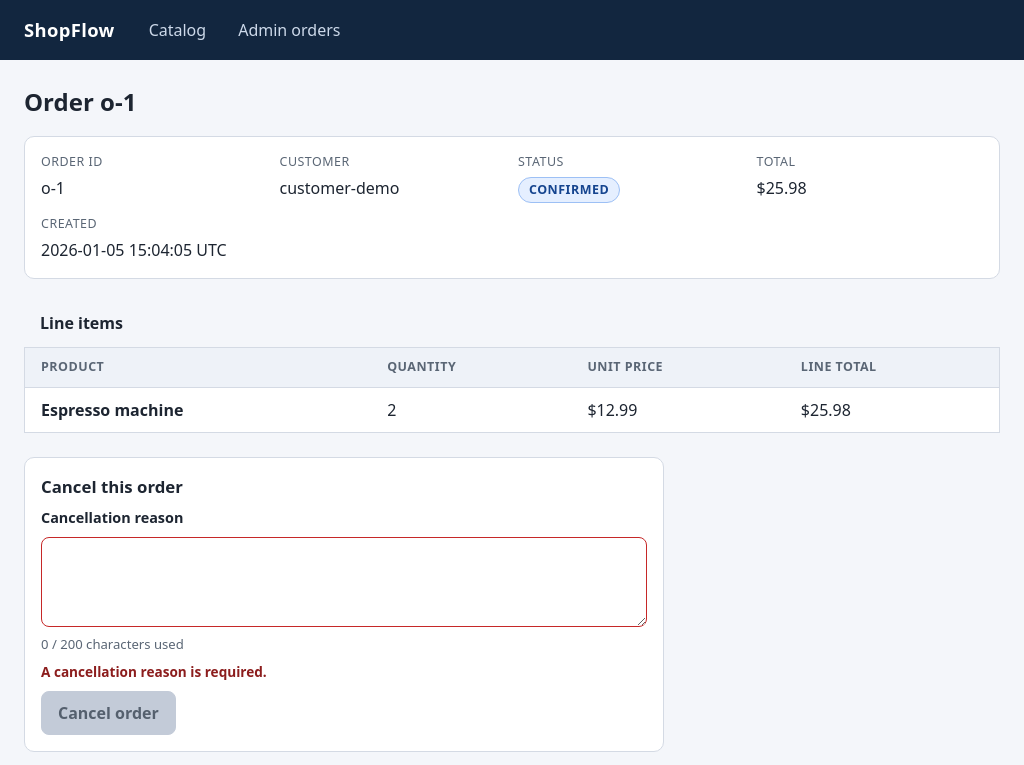
Test: OrderDetailPage › shows the rejection message when the API refuses the cancellation reason
Type "Found a better deal" into the text box labelled "Cancellation reason" at (344, 582), box [41,537,647,627]
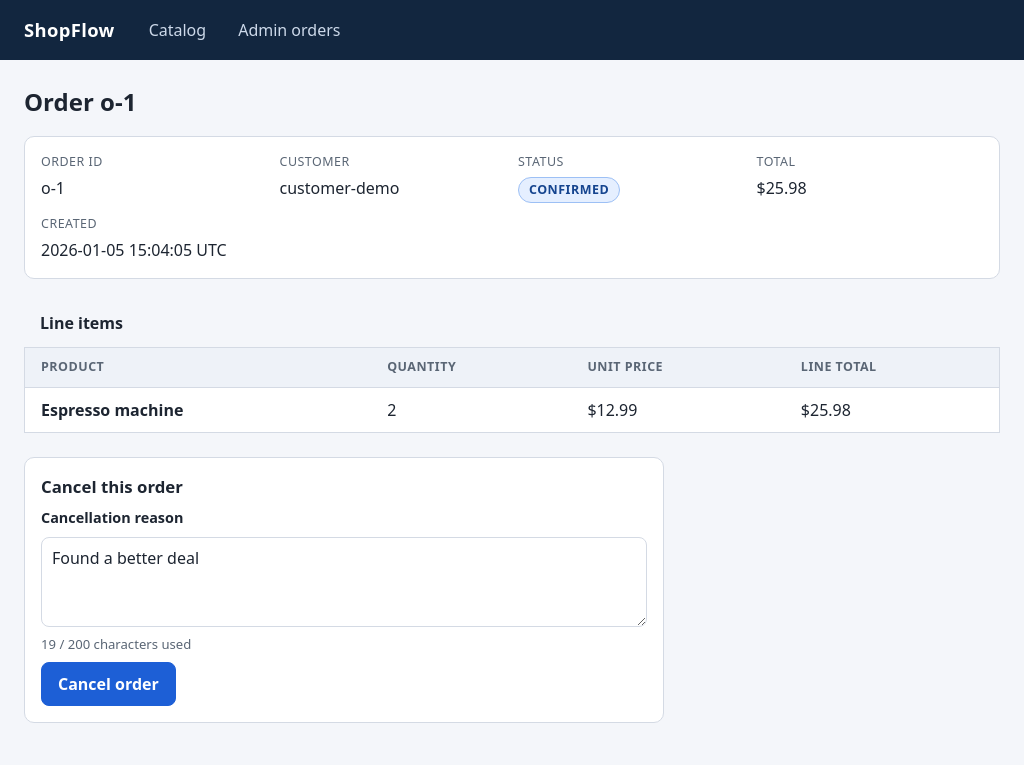
Click the button "Cancel order" at (108, 684), box [41,662,176,706]
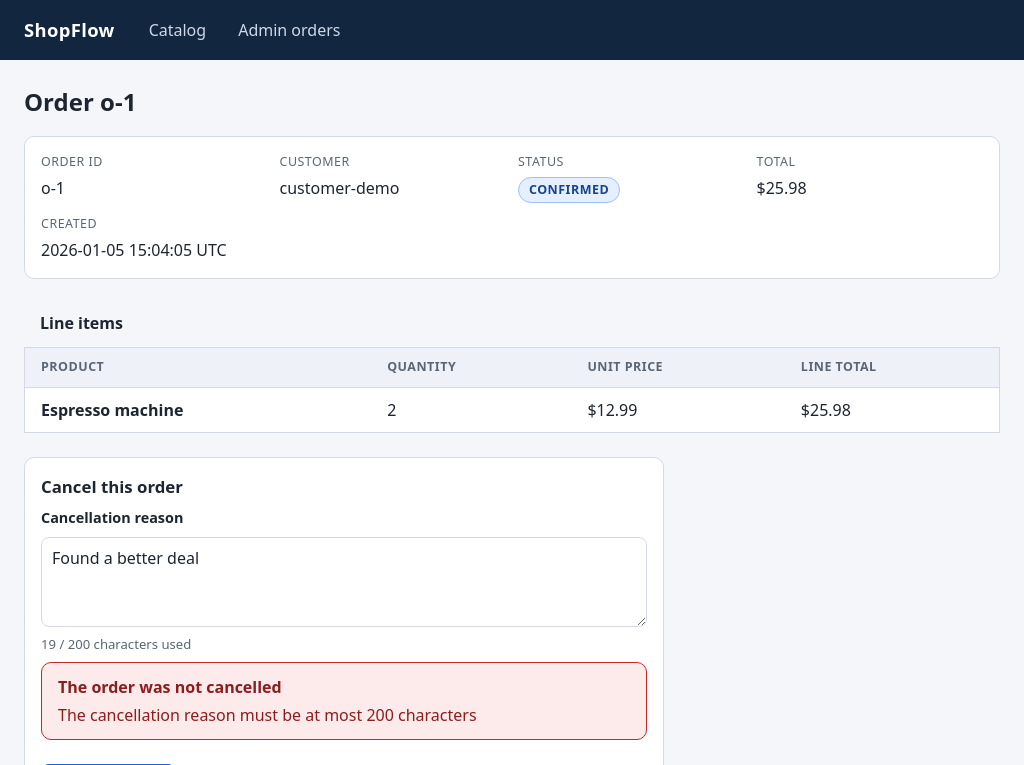
Result: the text "The order was not cancelled" is shown at [58,676,282,698]
Result: the text "The cancellation reason must be at most 200 characters" is shown at [58,704,477,726]
